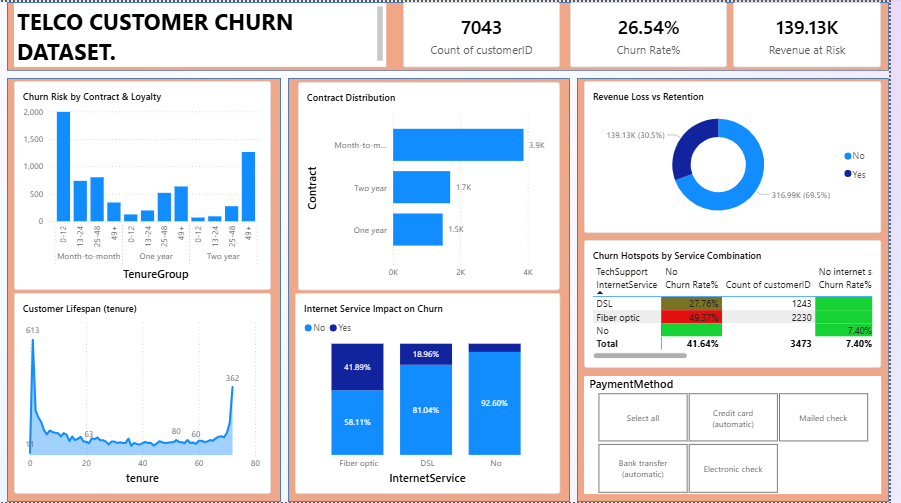

The dashboard page shown, as its layout file describes it:
{"tool":"powerbi","page":{"name":"Page 1","canvas":[1280,720],"ordinal":0},"visuals":[{"type":"shape","box":[10.1,0,1270.1,99.4],"z":0},{"type":"shape","box":[10.1,109.4,394.6,610.6],"z":1000},{"type":"shape","box":[414.7,109.4,406.1,610.6],"z":2000},{"type":"shape","box":[830.9,109.4,449.3,610.6],"z":3000},{"type":"clusteredColumnChart","title":"Churn Risk by Contract & Loyalty","fields":{"Category":["Telco Customer Churn Dataset - WA_Fn-UseC_-Telco-Customer-Churn.Contract","Telco Customer Churn Dataset - WA_Fn-UseC_-Telco-Customer-Churn.TenureGroup"],"Y":["CountNonNull(Telco Customer Churn Dataset - WA_Fn-UseC_-Telco-Customer-Churn.customerID)"]},"box":[20.2,113.8,370.1,301],"z":4000},{"type":"areaChart","title":"Customer Lifespan (tenure)","fields":{"Category":["Telco Customer Churn Dataset - WA_Fn-UseC_-Telco-Customer-Churn.tenure"],"Y":["CountNonNull(Telco Customer Churn Dataset - WA_Fn-UseC_-Telco-Customer-Churn.customerID)"]},"box":[20.2,419,370.1,289.4],"z":5000},{"type":"barChart","title":"Contract Distribution","fields":{"Category":["Telco Customer Churn Dataset - WA_Fn-UseC_-Telco-Customer-Churn.Contract"],"Y":["CountNonNull(Telco Customer Churn Dataset - WA_Fn-UseC_-Telco-Customer-Churn.TenureGroup)"]},"box":[429.1,115.2,377.3,299.5],"z":6000},{"type":"pivotTable","title":"Churn Hotspots by Service Combination","fields":{"Rows":["Telco Customer Churn Dataset - WA_Fn-UseC_-Telco-Customer-Churn.InternetService"],"Columns":["Telco Customer Churn Dataset - WA_Fn-UseC_-Telco-Customer-Churn.TechSupport"],"Values":["Telco Customer Churn Dataset - WA_Fn-UseC_-Telco-Customer-Churn.Churn Rate","CountNonNull(Telco Customer Churn Dataset - WA_Fn-UseC_-Telco-Customer-Churn.customerID)"]},"box":[841,342.7,427.7,184.3],"z":7000},{"type":"donutChart","title":"Revenue Loss vs Retention","fields":{"Category":["Telco Customer Churn Dataset - WA_Fn-UseC_-Telco-Customer-Churn.Churn"],"Y":["Sum(Telco Customer Churn Dataset - WA_Fn-UseC_-Telco-Customer-Churn.MonthlyCharges)"]},"box":[841,113.8,427.7,218.9],"z":8000},{"type":"card","fields":{"Values":["CountNonNull(Telco Customer Churn Dataset - WA_Fn-UseC_-Telco-Customer-Churn.customerID)"]},"box":[580.3,0,226.1,93.6],"z":9000},{"type":"card","fields":{"Values":["Telco Customer Churn Dataset - WA_Fn-UseC_-Telco-Customer-Churn.Churn Rate%"]},"box":[820.8,0,226.1,93.6],"z":10000},{"type":"card","fields":{"Values":["Telco Customer Churn Dataset - WA_Fn-UseC_-Telco-Customer-Churn.Revenue at Risk"]},"box":[1055.5,0,213.1,93.6],"z":11000},{"type":"hundredPercentStackedColumnChart","title":"Internet Service Impact on Churn","fields":{"Series":["Telco Customer Churn Dataset - WA_Fn-UseC_-Telco-Customer-Churn.Churn"],"Category":["Telco Customer Churn Dataset - WA_Fn-UseC_-Telco-Customer-Churn.InternetService"],"Y":["CountNonNull(Telco Customer Churn Dataset - WA_Fn-UseC_-Telco-Customer-Churn.customerID)"]},"box":[424.8,419,381.6,289.4],"z":12000},{"type":"textbox","box":[20.2,1.4,535.7,92.2],"z":13000},{"type":"slicer","fields":{"Values":["Telco Customer Churn Dataset - WA_Fn-UseC_-Telco-Customer-Churn.PaymentMethod"]},"box":[841,538.6,427.7,169.9],"z":13001}]}

Visuals, with their boxes in screenshot pixels (x1, y1, x2, y2), scaled from the page's 1280x720 canvas onto the 901x503 screenshot:
shape: [7,0,900,69]
shape: [7,76,285,502]
shape: [292,76,578,502]
shape: [585,76,900,502]
"Churn Risk by Contract & Loyalty" clusteredColumnChart: [14,80,275,290]
"Customer Lifespan (tenure)" areaChart: [14,293,275,495]
"Contract Distribution" barChart: [302,80,568,290]
"Churn Hotspots by Service Combination" pivotTable: [592,239,893,368]
"Revenue Loss vs Retention" donutChart: [592,80,893,232]
card - CountNonNull(Telco Customer Churn Dataset - WA_Fn-UseC_-Telco-Customer-Churn.customerID): [408,0,568,65]
card - Telco Customer Churn Dataset - WA_Fn-UseC_-Telco-Customer-Churn.Churn Rate%: [578,0,737,65]
card - Telco Customer Churn Dataset - WA_Fn-UseC_-Telco-Customer-Churn.Revenue at Risk: [743,0,893,65]
"Internet Service Impact on Churn" hundredPercentStackedColumnChart: [299,293,568,495]
textbox: [14,1,391,65]
slicer - Telco Customer Churn Dataset - WA_Fn-UseC_-Telco-Customer-Churn.PaymentMethod: [592,376,893,495]
